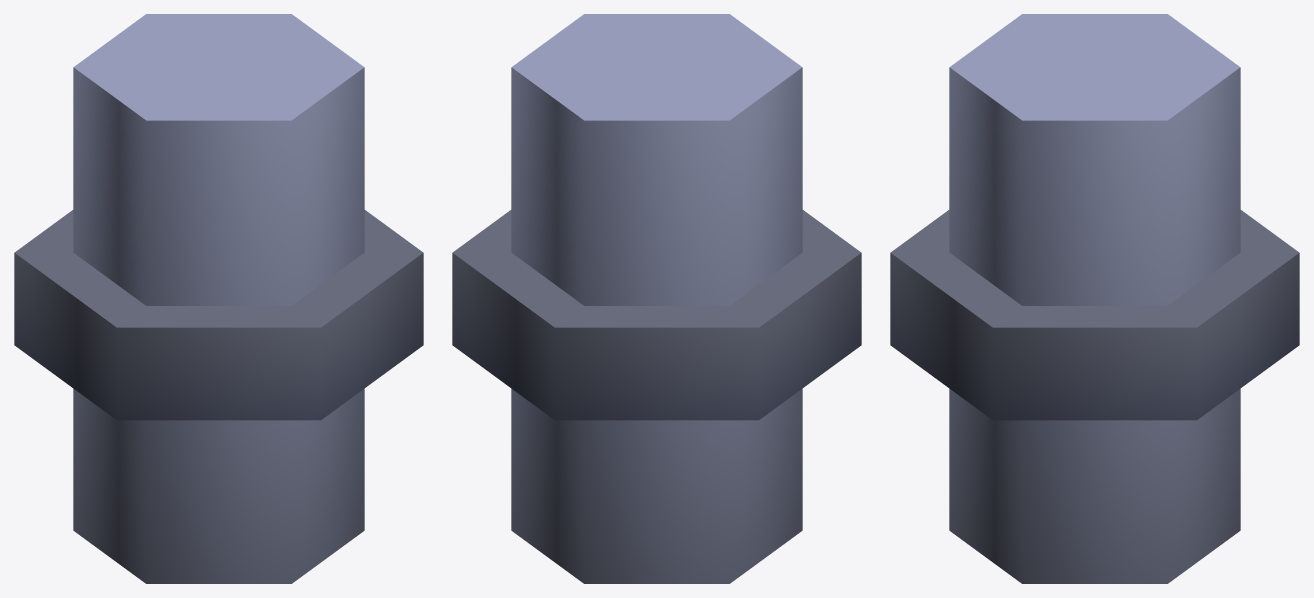
File: pipe-ring.glb
3 renders of one model, left to right at view 1: azimuth 30°, elevation 25°; view 2: azimuth 150°, elevation 25°; view 3: azimuth 270°, elevation 25°, orthographic.
Parts seen in each view (by area): view 1: pipe-ring; view 2: pipe-ring; view 3: pipe-ring.
Part boxes in pixels (x1,y1,x2,y2): pipe-ring: (14,14,423,583); pipe-ring: (452,14,861,583); pipe-ring: (890,14,1299,583).
Bounding box in the file's own units: 0.3464 × 0.5 × 0.4.
